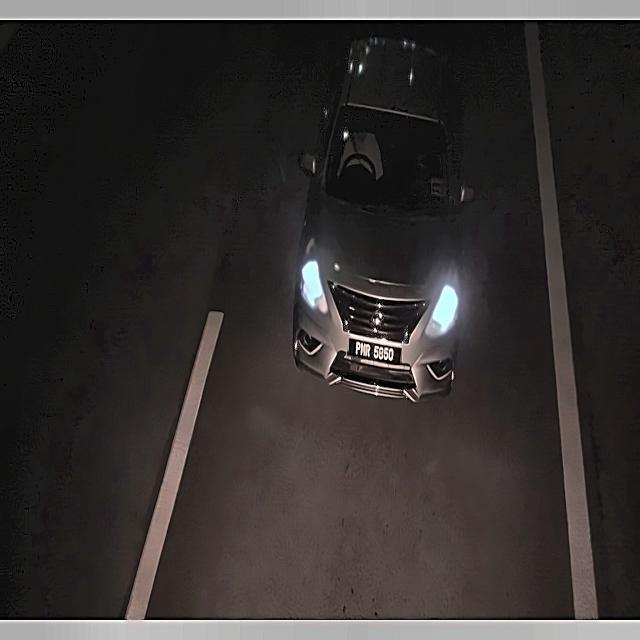car: (341, 331, 403, 369)
